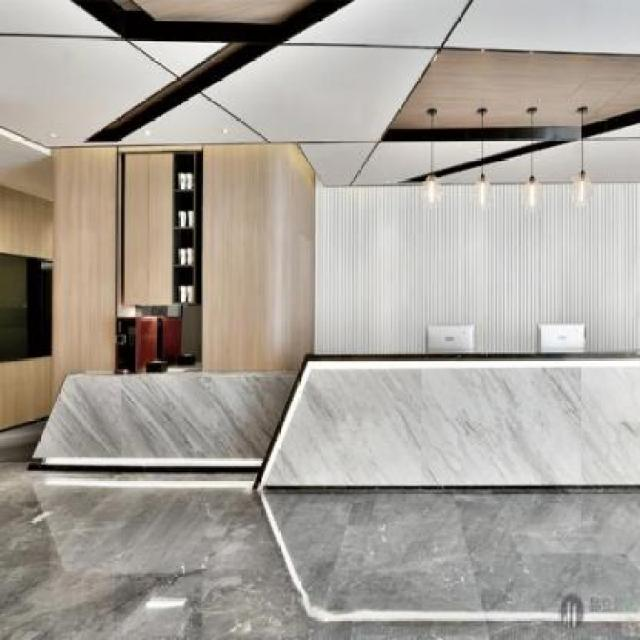frontdesk: (18, 348, 640, 500)
